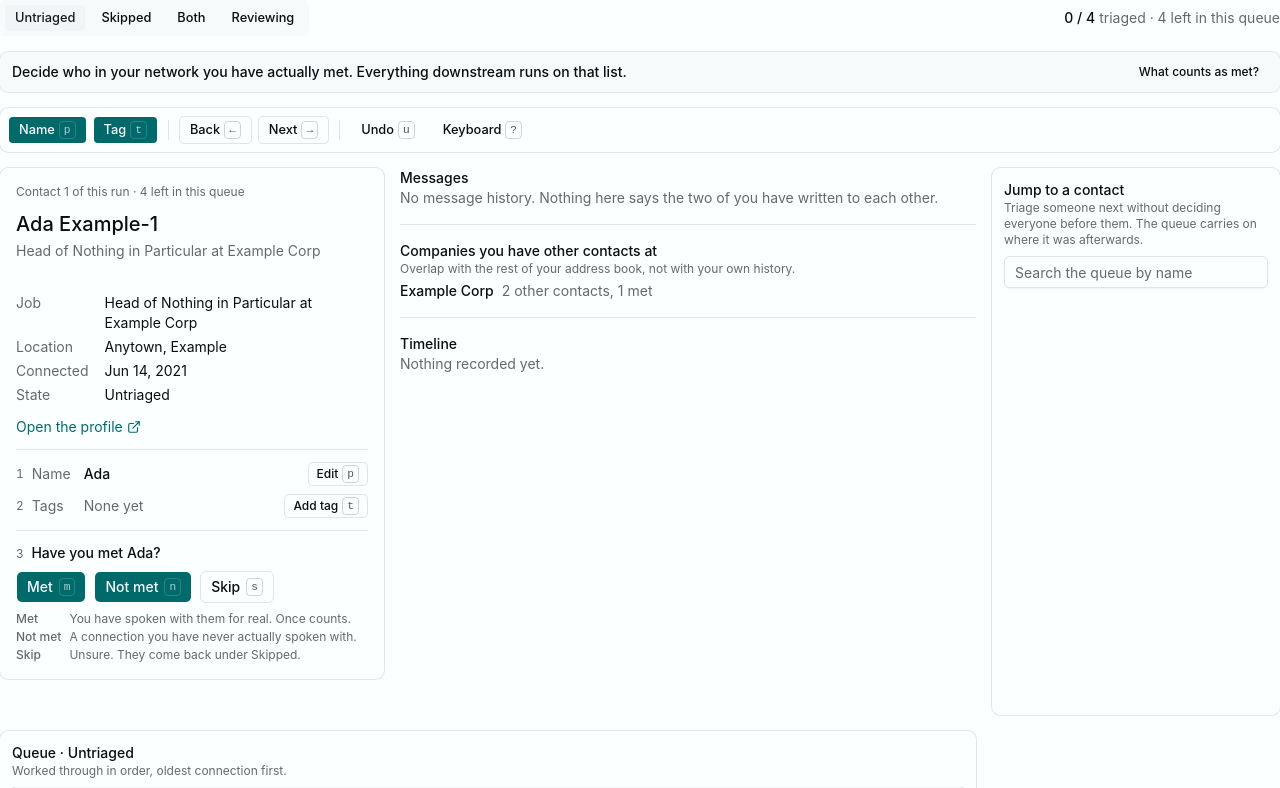
Test: undo › keeps the card when a force only overrode an edited field
Press p
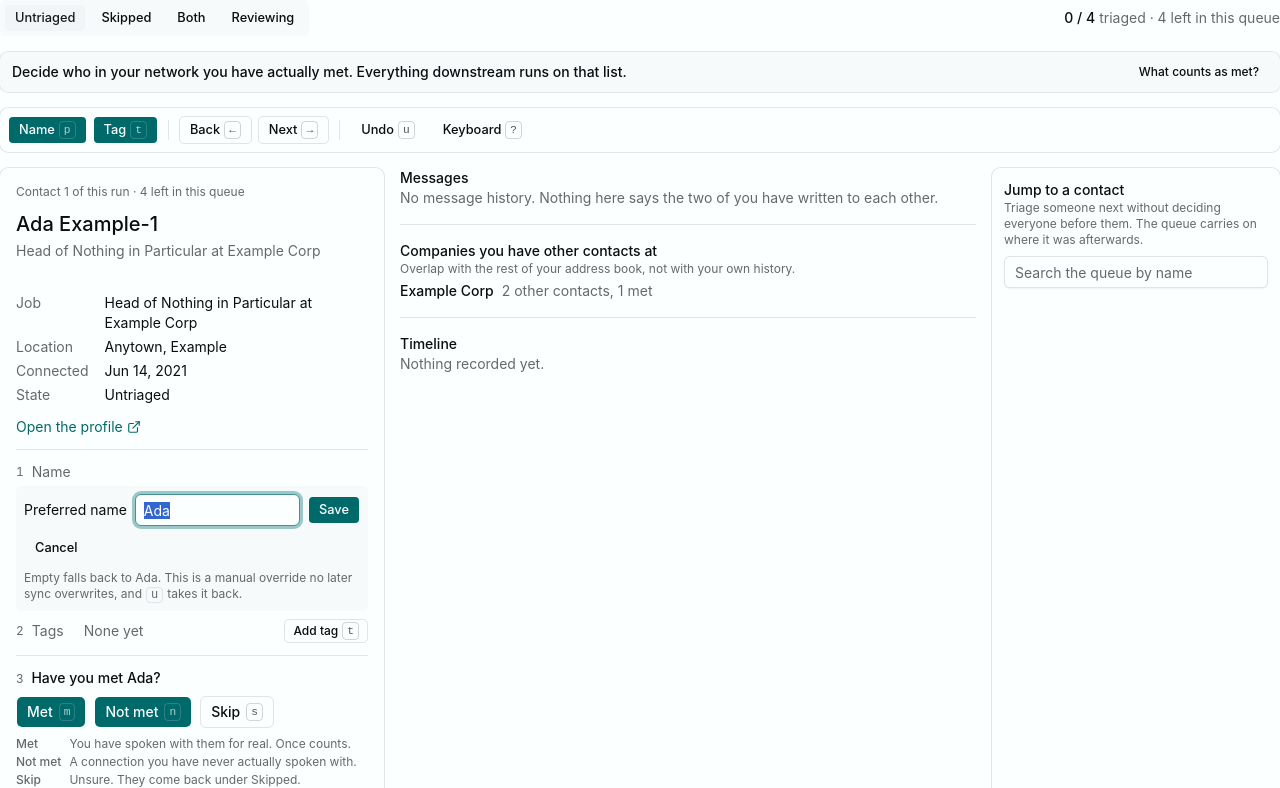
Type "Addie" into the field labelled "Preferred name" at (217, 510), box [135,494,300,526]
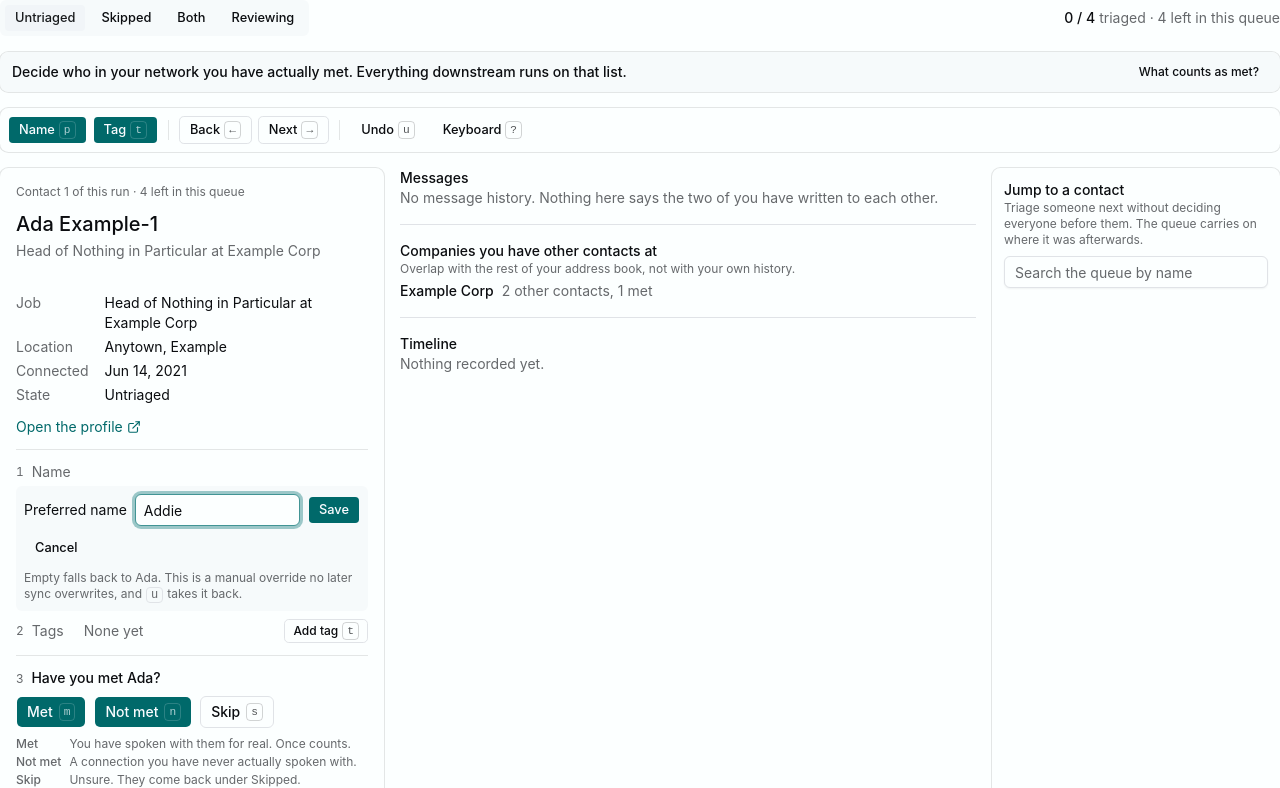
Submit the form labelled "Preferred name", box [16,486,368,611]
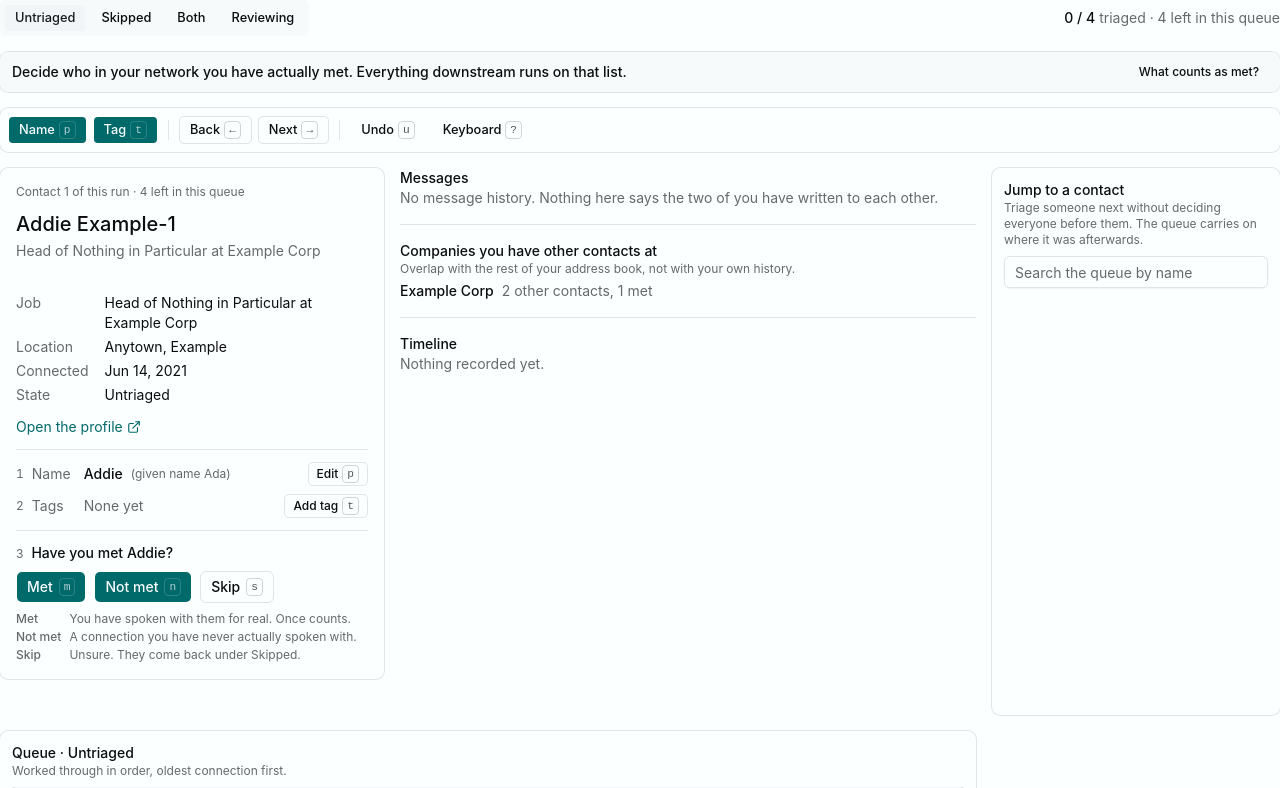
Now the text "Addie" is shown, box [84,464,123,484]
Press u
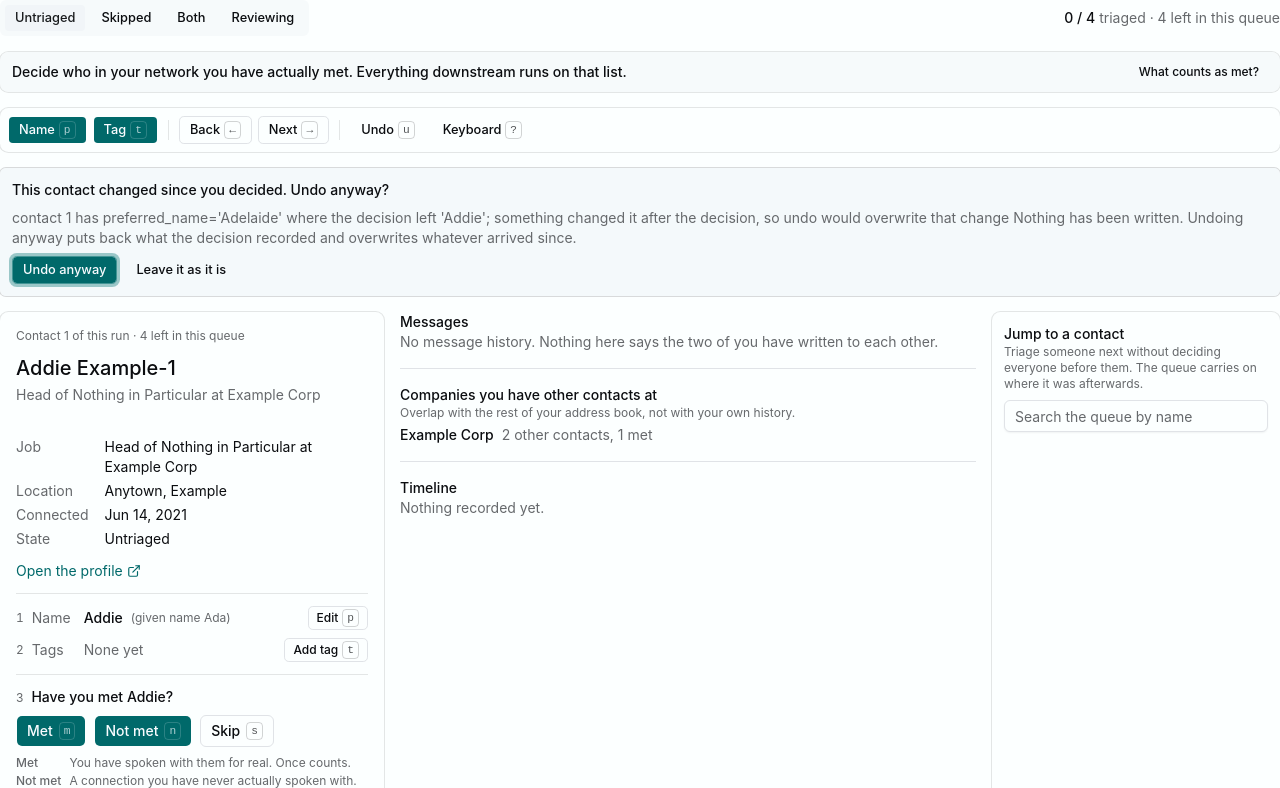
Now the dialog shows "changed since you decided", box [12,181,389,198]
Click the button with test id "undo-force" at (65, 270), box [12,256,117,284]
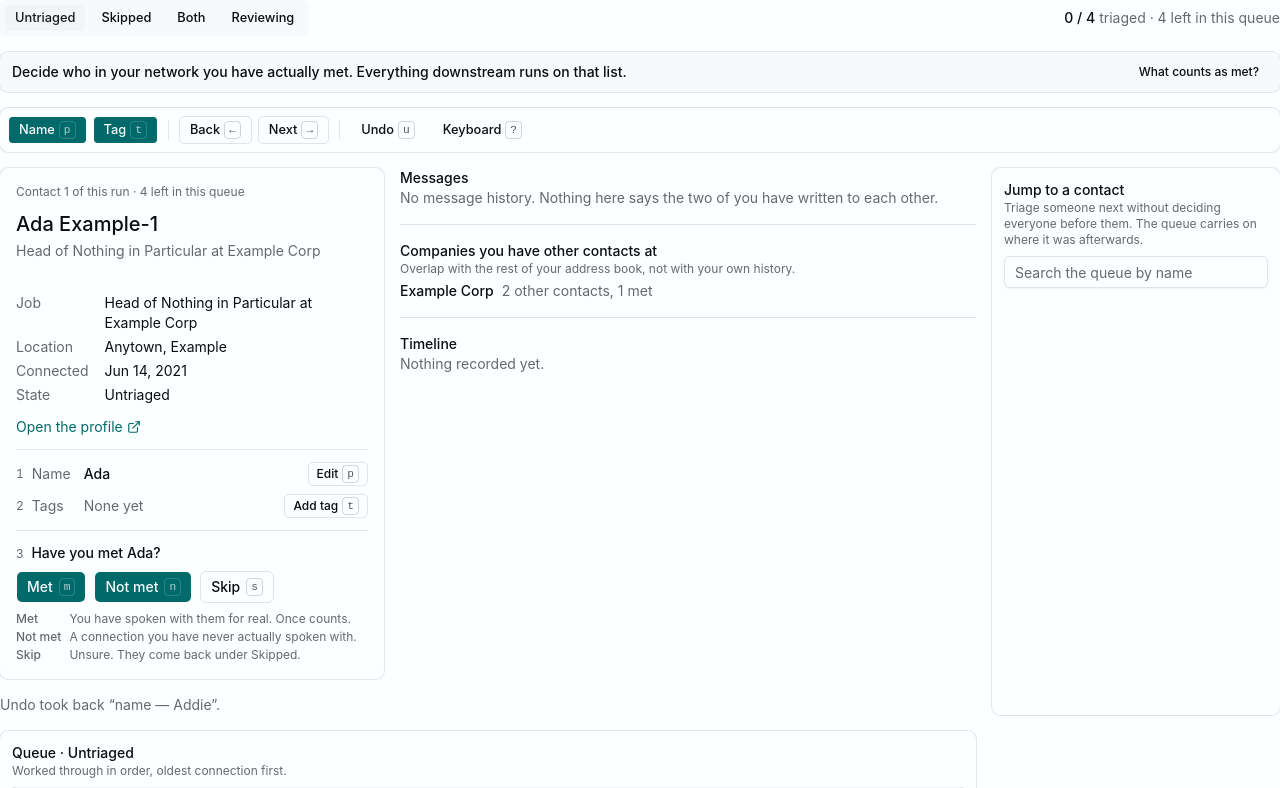
Now the text "Ada" is shown, box [84,464,110,484]
Now the link "Ada Example-1" is shown, box [16,212,158,236]
